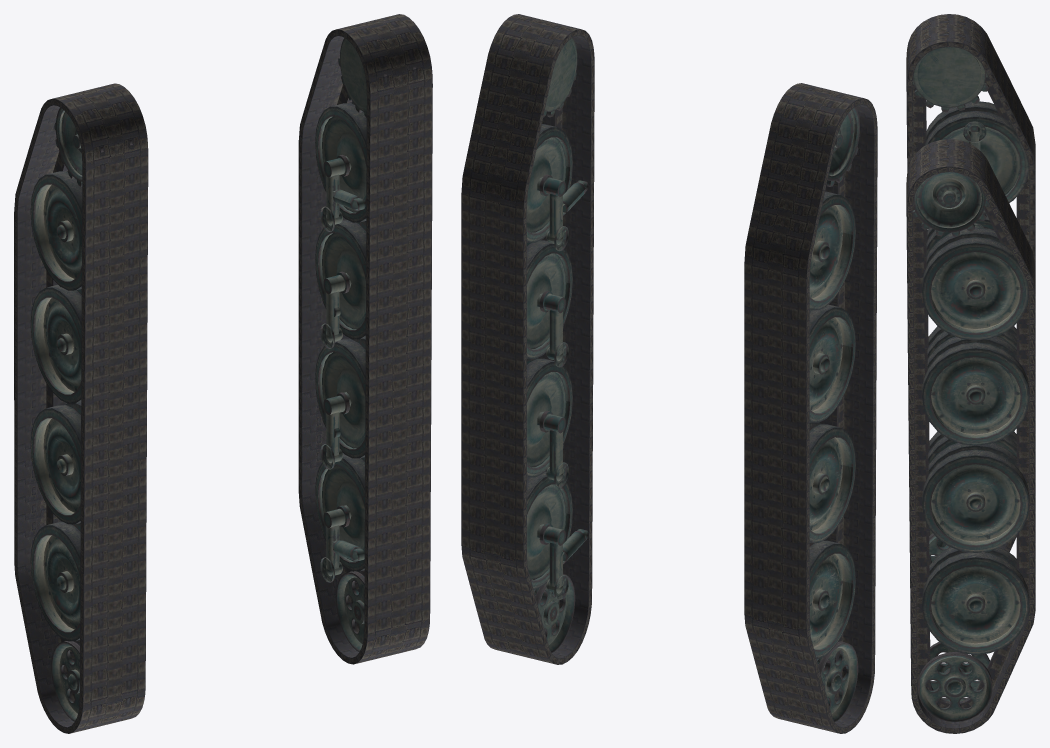
The model's file is Chassis.glb.
3 renders of one model, left to right at view 1: azimuth 30°, elevation 25°; view 2: azimuth 150°, elevation 25°; view 3: azimuth 270°, elevation 25°, orthographic. The views are drawn at different scales.
Parts seen in each view (by area): view 1: set_1_group_0, set_0_group_0, set_3_group_0, set_2_group_0; view 2: set_1_group_0, set_0_group_0, set_3_group_0, set_2_group_0; view 3: set_3_group_0, set_0_group_0, set_2_group_0, set_1_group_0.
Part boxes in pixels (x1=…): set_1_group_0: x1=14, y1=83, x2=148, y2=733; set_0_group_0: x1=298, y1=14, x2=432, y2=664; set_3_group_0: x1=315, y1=38, x2=415, y2=651; set_2_group_0: x1=30, y1=107, x2=132, y2=721; set_1_group_0: x1=744, y1=83, x2=877, y2=733; set_0_group_0: x1=461, y1=14, x2=594, y2=664; set_3_group_0: x1=526, y1=38, x2=588, y2=652; set_2_group_0: x1=809, y1=107, x2=859, y2=721; set_3_group_0: x1=908, y1=172, x2=1029, y2=722; set_0_group_0: x1=906, y1=139, x2=1035, y2=733; set_2_group_0: x1=907, y1=47, x2=1028, y2=565; set_1_group_0: x1=906, y1=14, x2=1035, y2=564.
Size of the model in its own units: 3 by 5.2 by 1.07.
4 materials, 4 textured.
